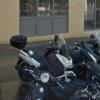Motorcycle: (10, 30, 100, 100)
